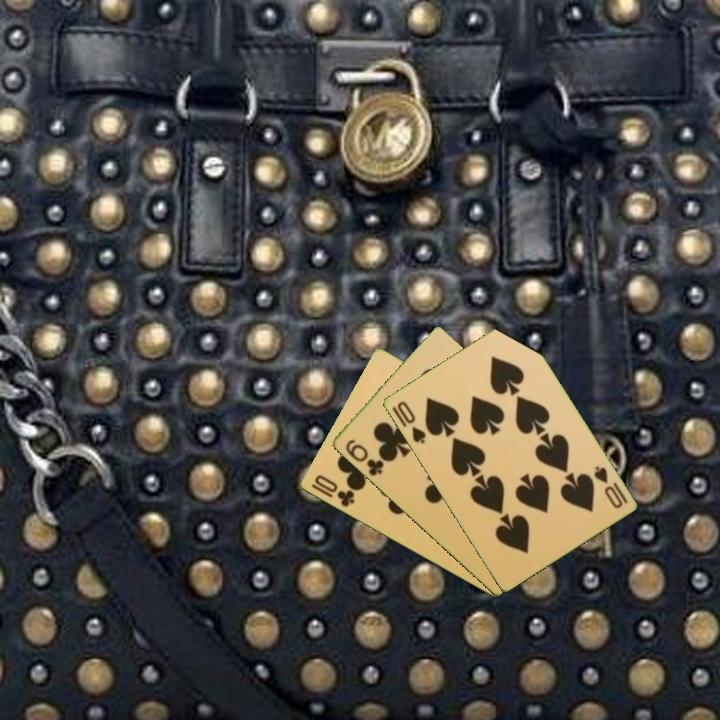10c: (307, 471, 357, 510)
10s: (590, 462, 630, 512), (393, 397, 429, 447)
6c: (341, 436, 386, 479)
